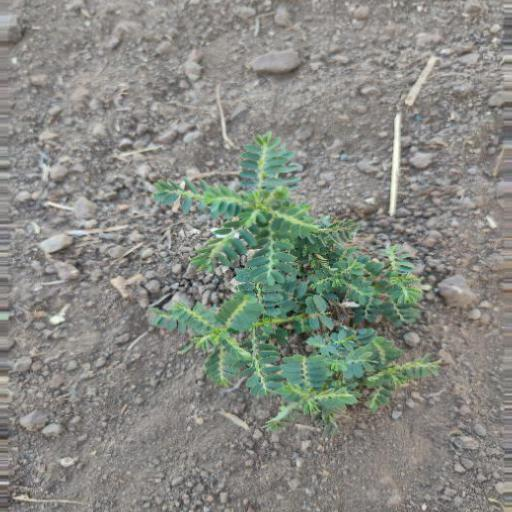weed: (148, 137, 445, 435)
